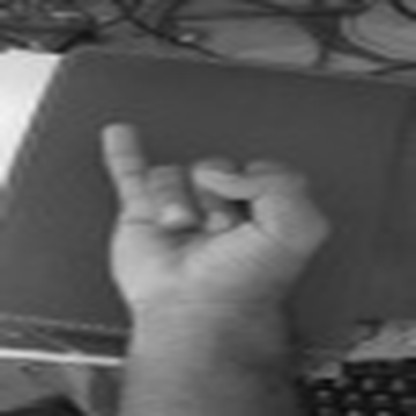i: (62, 108, 363, 319)
